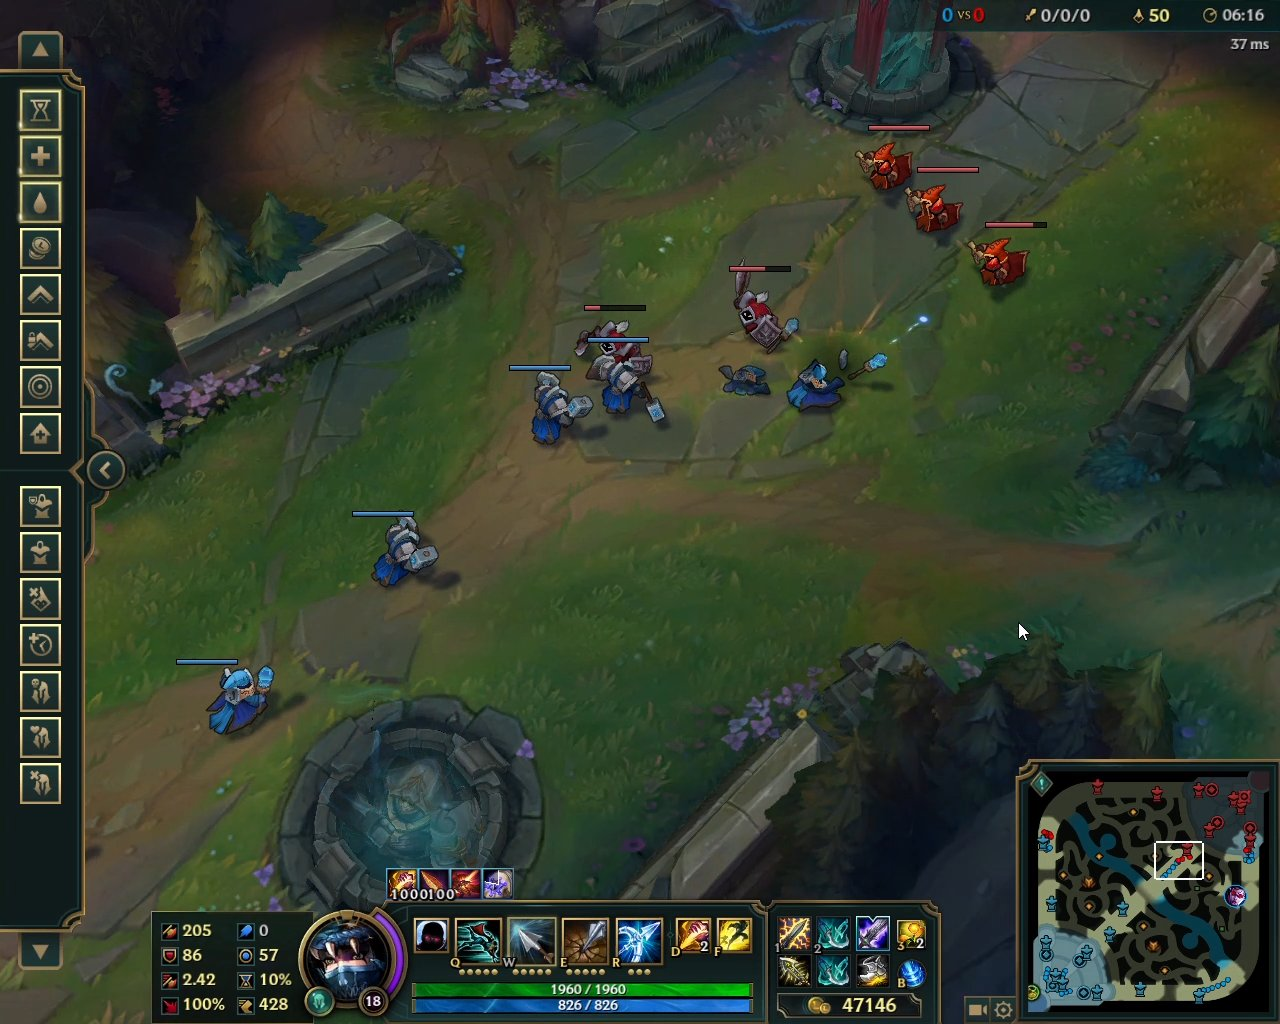EnemyMinion: (723, 257, 796, 354), (573, 303, 652, 378), (963, 222, 1049, 290), (902, 166, 979, 236), (856, 125, 930, 197)
